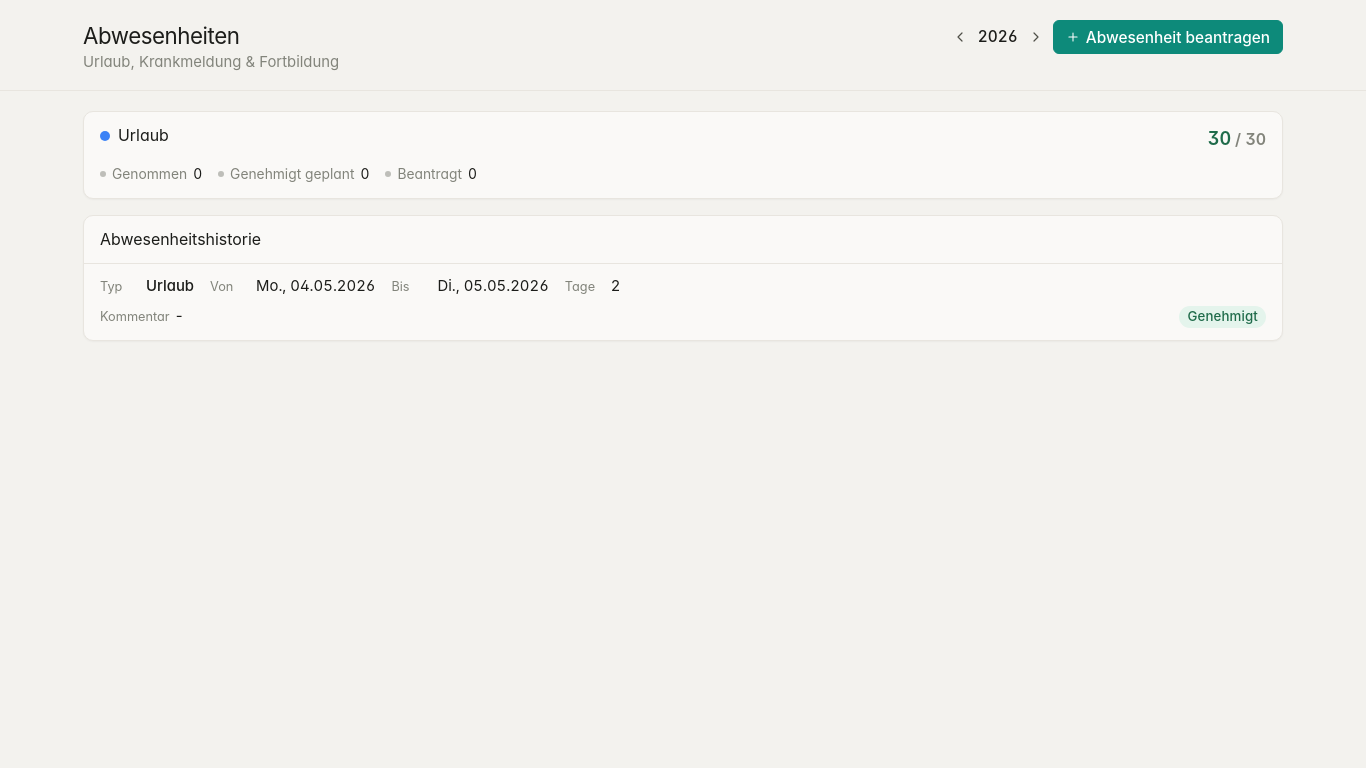
it: Absences › uses a distinct German label for cancelling an absence
Click the button with class "absence-entry". click: [170, 286]
box: [84, 264, 1282, 340]
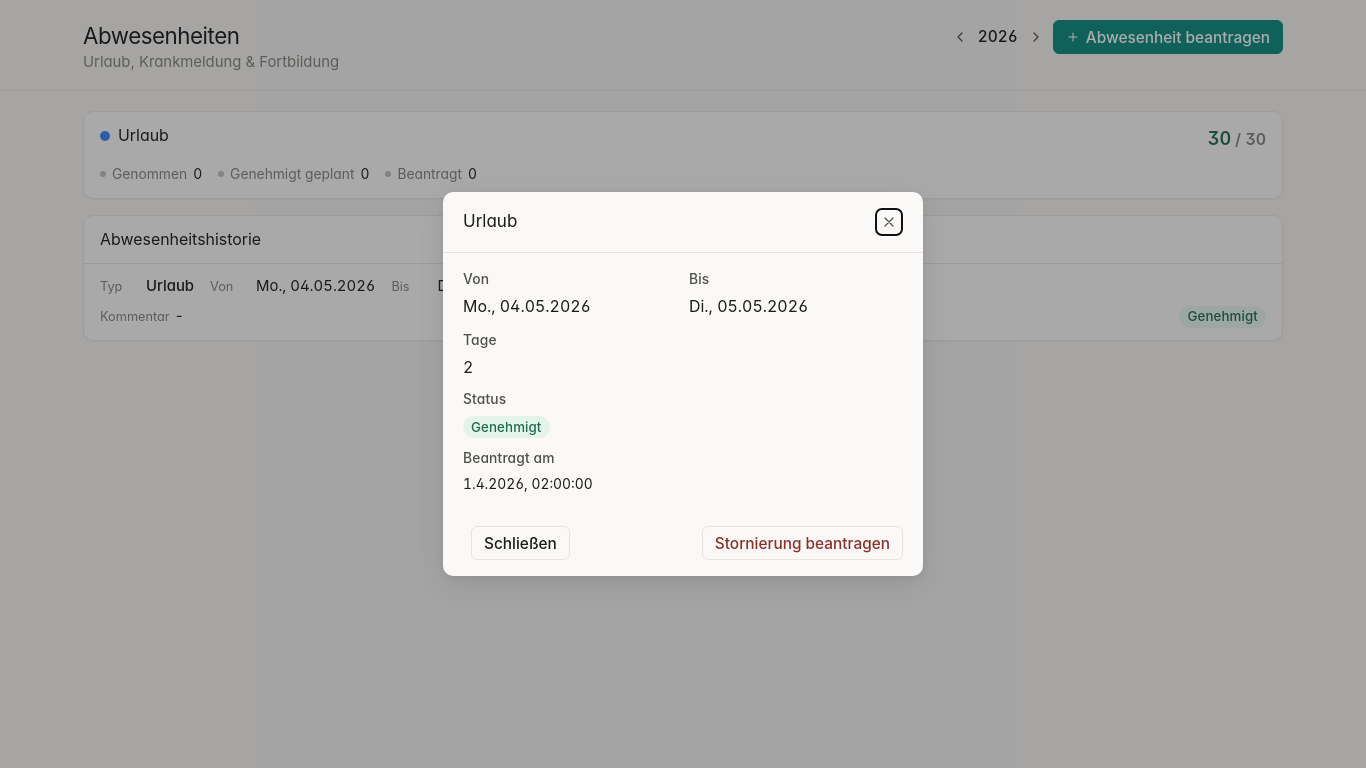
Now the button with class "zf-btn-danger" reads "Stornierung beantragen", box [702, 526, 903, 560]
